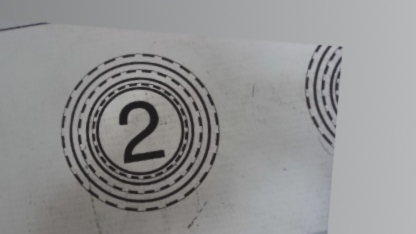2r: (51, 46, 227, 218)
